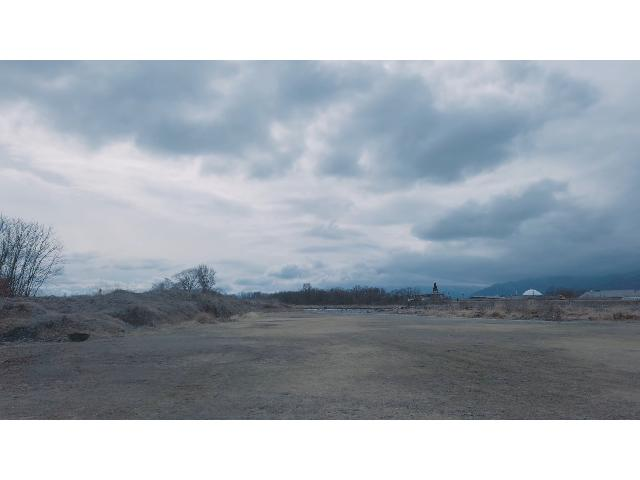Anti-Drone: (296, 274, 306, 280)
